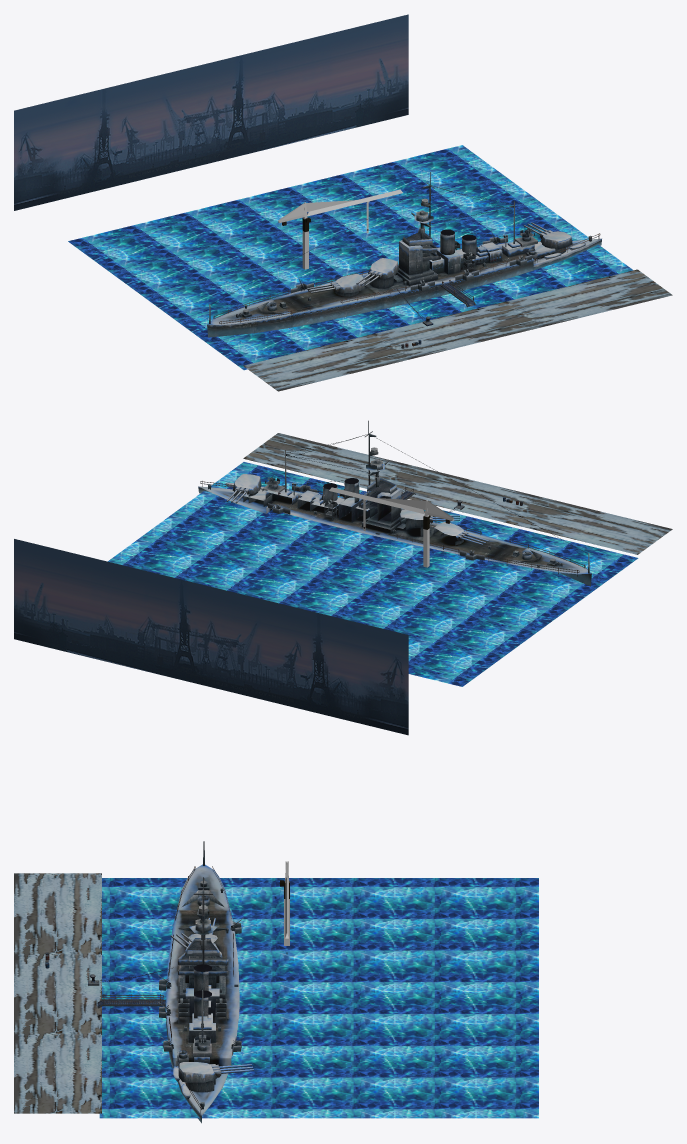
Rendered from zhujiemian_harbor.fbx.
3 views of the same model, one above another, from view 1: azimuth 30°, elevation 25°; view 2: azimuth 150°, elevation 25°; view 3: azimuth 270°, elevation 25° (orthographic). The views are drawn at different scales.
Visible parts, largest first — view 1: ice, background_harbor, ship, road, crane; view 2: ice, background_harbor, road, ship, crane; view 3: ice, road, ship, Harbor_props_02.
Boxes of the visible parts, x1,y1,x2,y2 form: ice: (68, 145, 633, 370); background_harbor: (14, 14, 408, 210); ship: (207, 172, 601, 337); road: (243, 269, 672, 391); crane: (278, 189, 402, 269); ice: (108, 462, 638, 686); background_harbor: (14, 539, 408, 735); road: (243, 433, 672, 554); ship: (198, 420, 591, 586); crane: (329, 487, 453, 567); ice: (99, 878, 538, 1118); road: (14, 873, 101, 1113); ship: (157, 841, 253, 1123); Harbor_props_02: (97, 994, 165, 1008).
Bounding box in the file's own units: 79.45 × 23.05 × 91.04.
